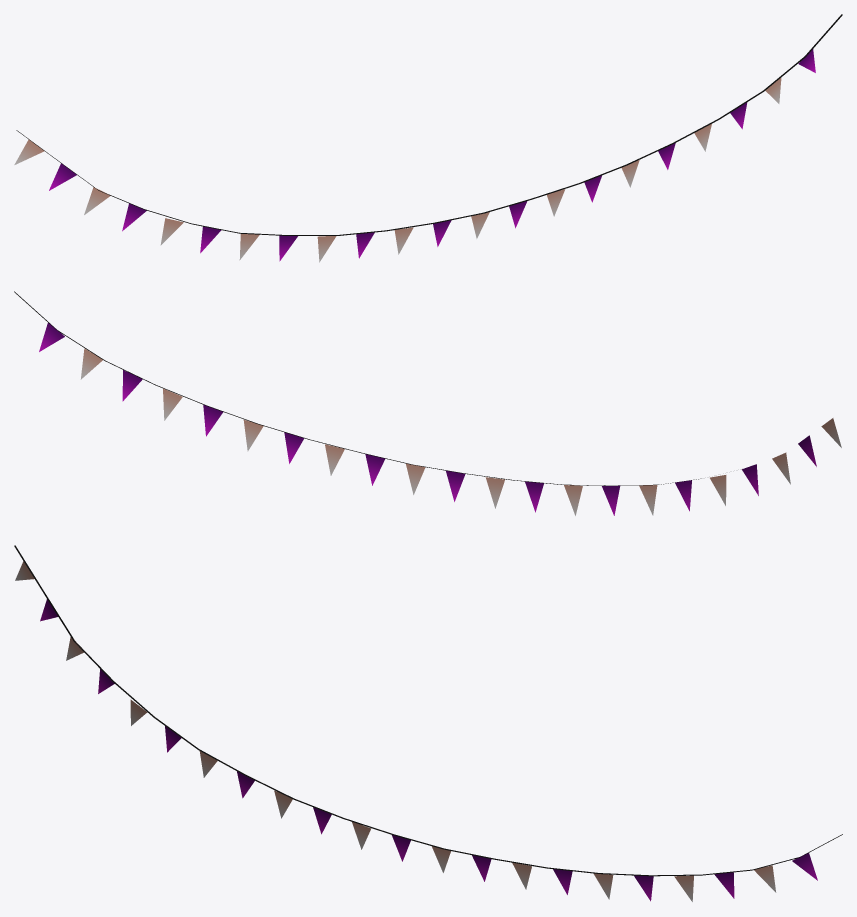
The model's file is Flag Banner.glb.
3 views of the same model, one above another, from view 1: azimuth 30°, elevation 25°; view 2: azimuth 150°, elevation 25°; view 3: azimuth 330°, elevation 25° (orthographic).
Parts seen in each view (by area): view 1: Flag Banner.001; view 2: Flag Banner.001; view 3: Flag Banner.001.
Boxes of the visible parts, box(x1,y1,x2,y2) form: Flag Banner.001: box(14, 14, 842, 262); Flag Banner.001: box(14, 291, 841, 515); Flag Banner.001: box(14, 545, 842, 901).
Bounding box in the file's own units: 20.17 × 4.78 × 1.01.
1 material, 1 textured.
